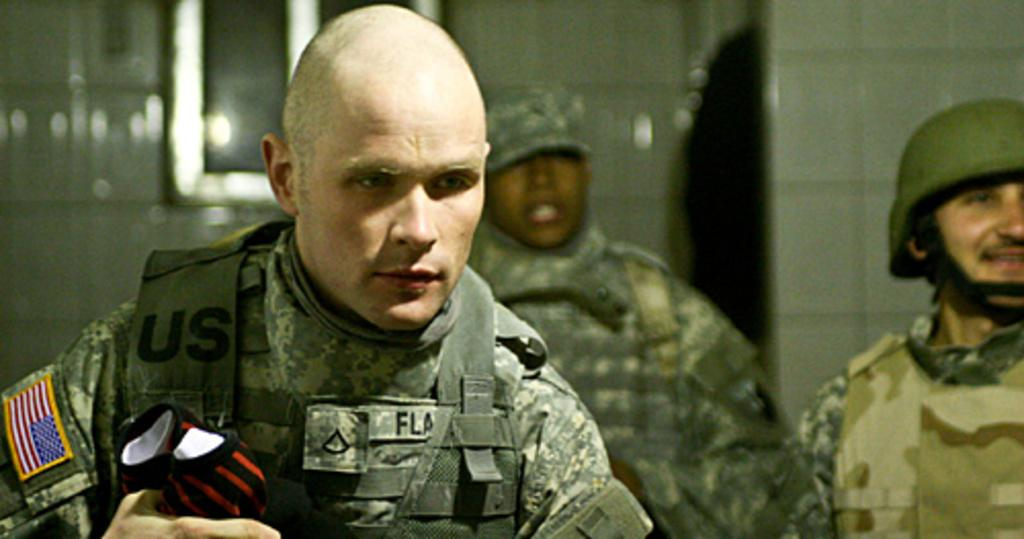Hat: (481, 88, 594, 172)
